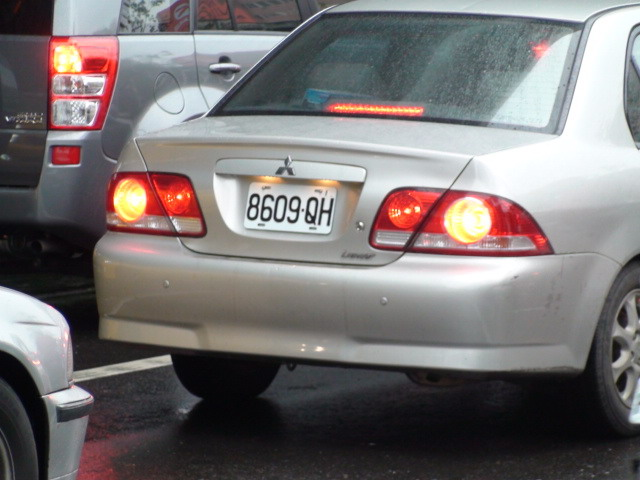plate: (241, 178, 341, 237)
